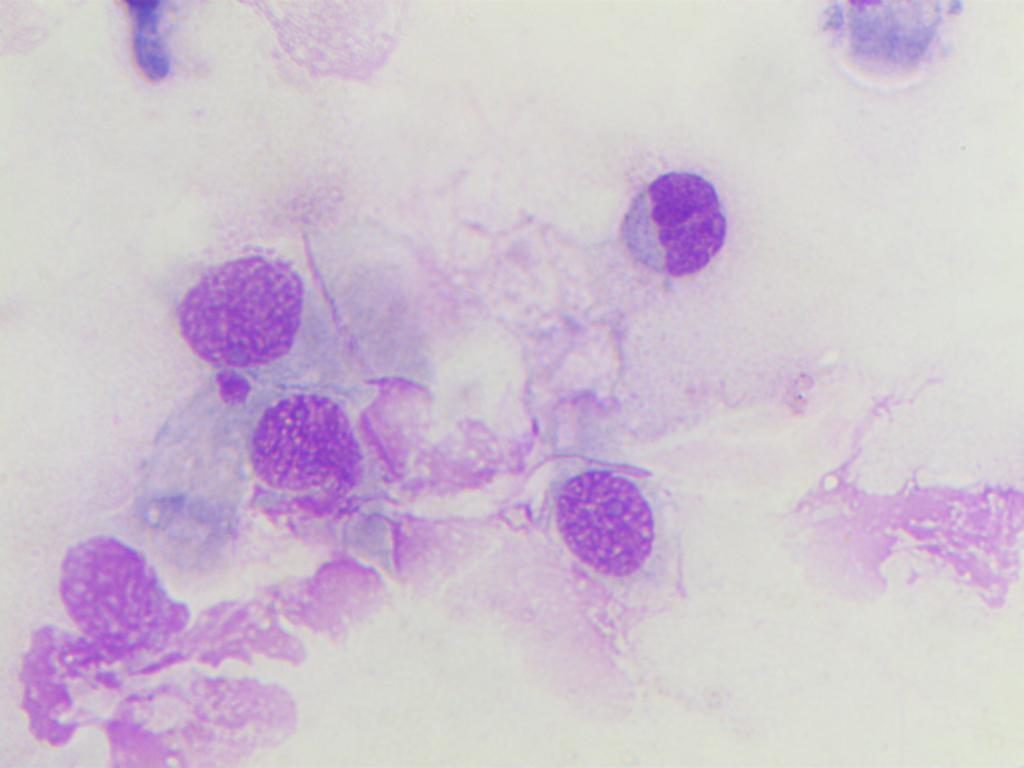epithelial: (153, 236, 328, 370), (235, 395, 366, 502), (552, 465, 661, 582), (60, 537, 171, 642)
lymphocyte: (601, 163, 743, 291)
